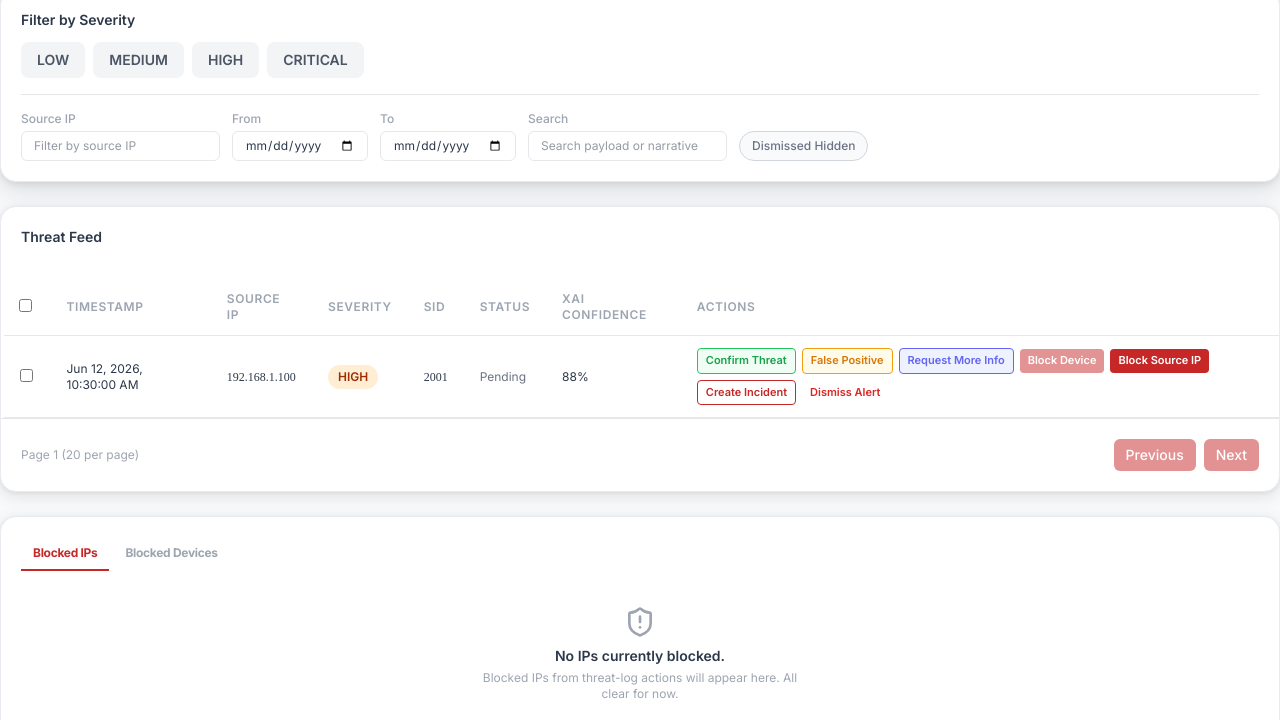
it: M8: Security Monitoring page — per-row actions + filters (T11) › Block Source IP with backend 400 shows error toast
(page scrolled)
Expected: the text "192.168.1.100" is shown, 211,336 -> 312,418
Step 1. Click the button "Block Source IP" → (1160, 361), box 1110,349 -> 1209,373
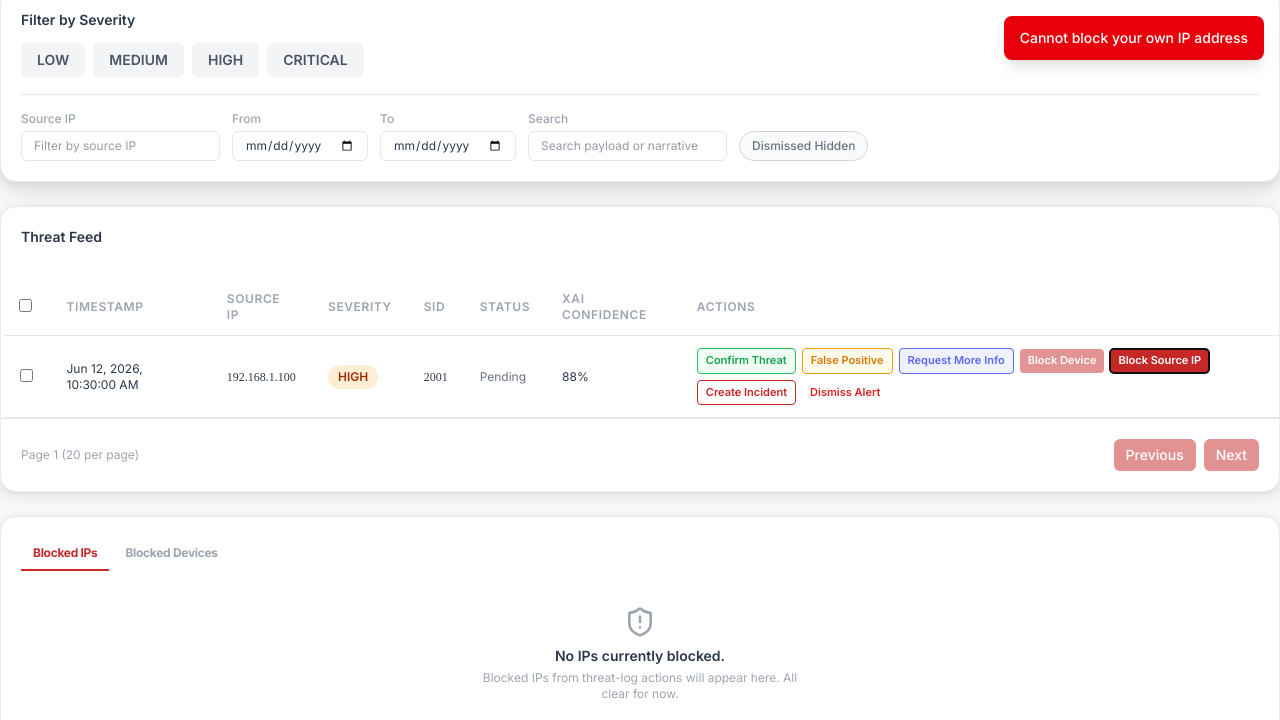
Expected: the text "Cannot block your own IP address" is shown, 1004,16 -> 1264,60
